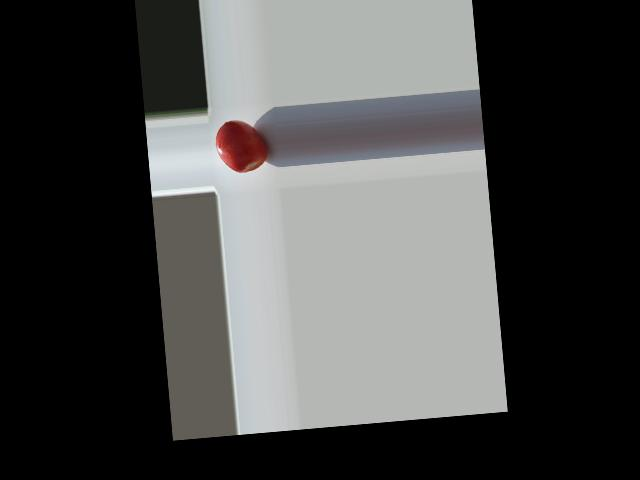tomato: (214, 117, 268, 174)
